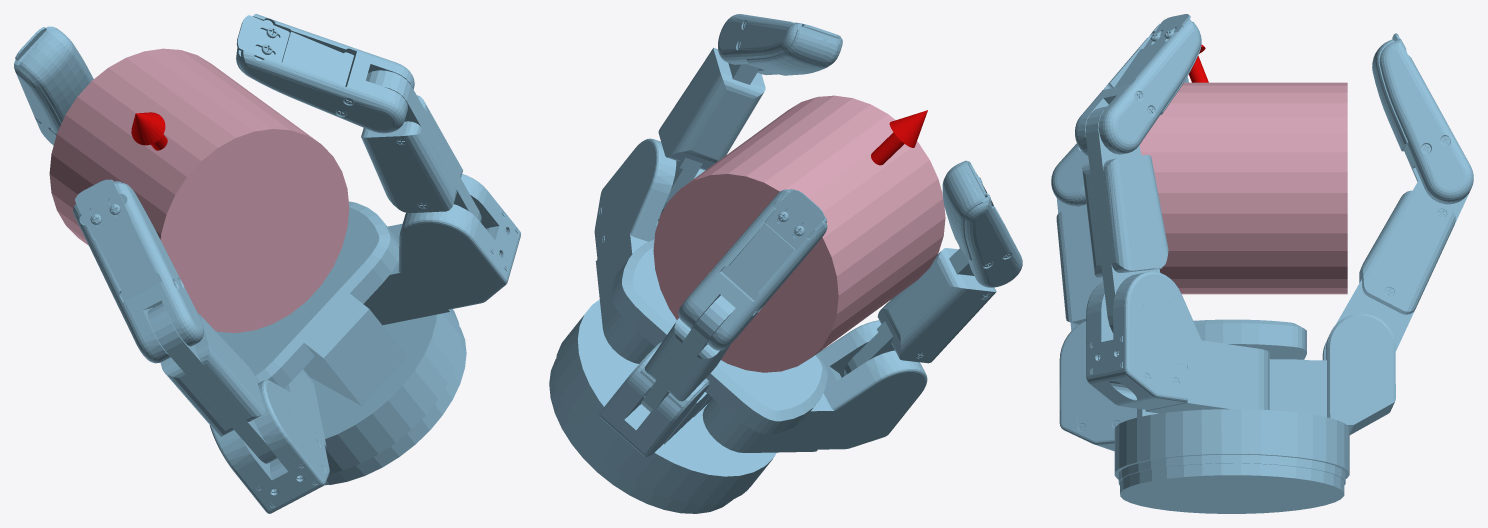
The picture shows the model from 3 angles, left to right: view 1: azimuth 30°, elevation 25°; view 2: azimuth 150°, elevation 25°; view 3: azimuth 270°, elevation 25°; orthographic projection. The views are drawn at different scales.
Visible parts, largest first — view 1: world, cylinder_medium.stl; view 2: world, cylinder_medium.stl; view 3: world, cylinder_medium.stl.
Boxes of the visible parts, <box> form: world: <box>14,14,520,513</box>; cylinder_medium.stl: <box>49,48,349,332</box>; world: <box>549,14,1022,513</box>; cylinder_medium.stl: <box>653,95,945,372</box>; world: <box>1051,14,1473,513</box>; cylinder_medium.stl: <box>1139,82,1347,294</box>.
Bounding box in the file's own units: 0.1778 × 0.1969 × 0.1598.
